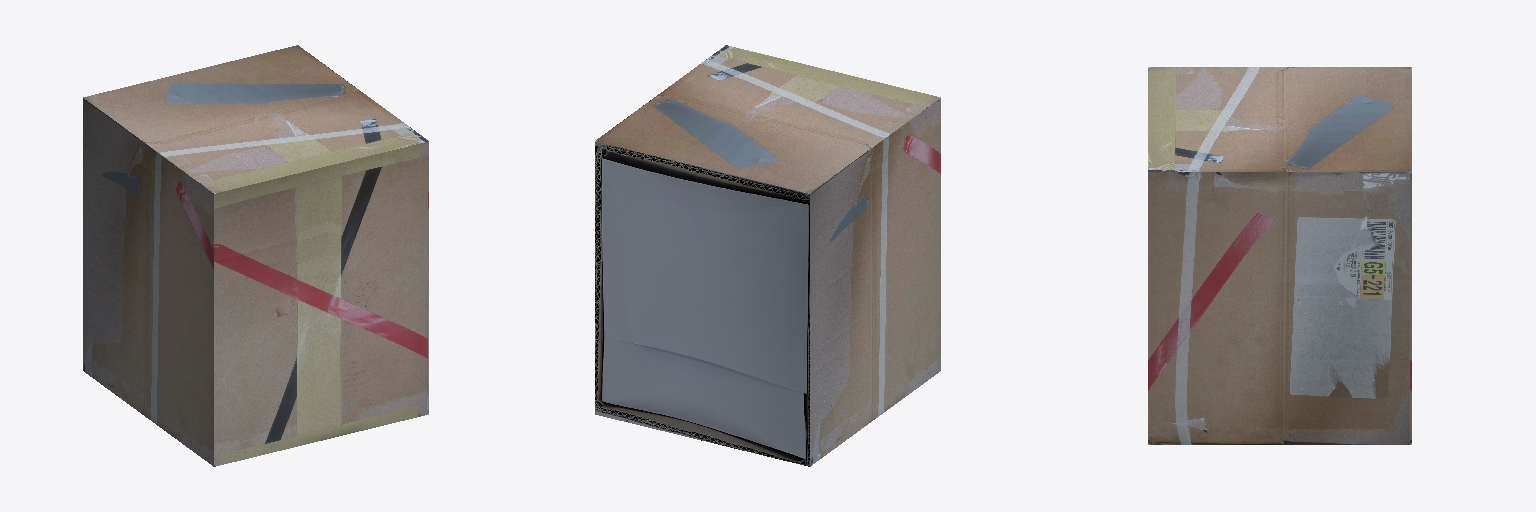
3 views of the same model, side by side, from view 1: azimuth 30°, elevation 25°; view 2: azimuth 150°, elevation 25°; view 3: azimuth 270°, elevation 25° (orthographic).
Visible parts, largest first — view 1: Box; view 2: Box; view 3: Box.
Part boxes in pixels (left/top/right/bottom): Box: left=83, top=45, right=428, bottom=466; Box: left=595, top=45, right=940, bottom=466; Box: left=1148, top=67, right=1411, bottom=444.
Size of the model in its own units: 0.26 by 0.315 by 0.275.
6 materials, 6 textured.